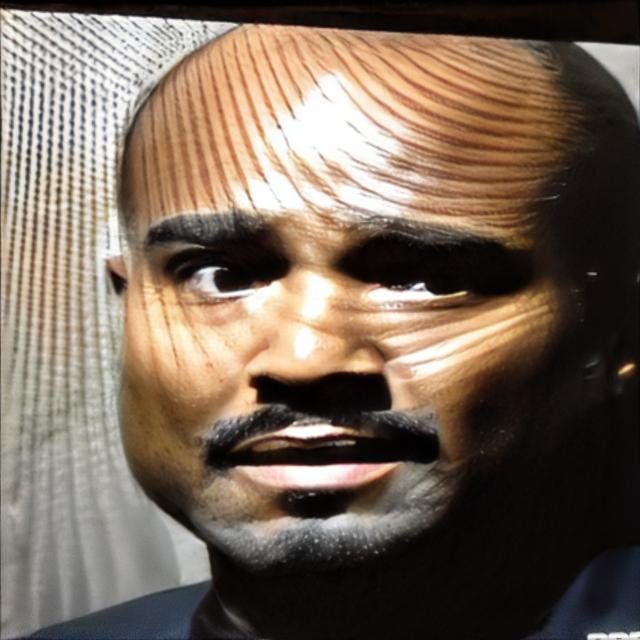fear: (115, 42, 580, 586)
